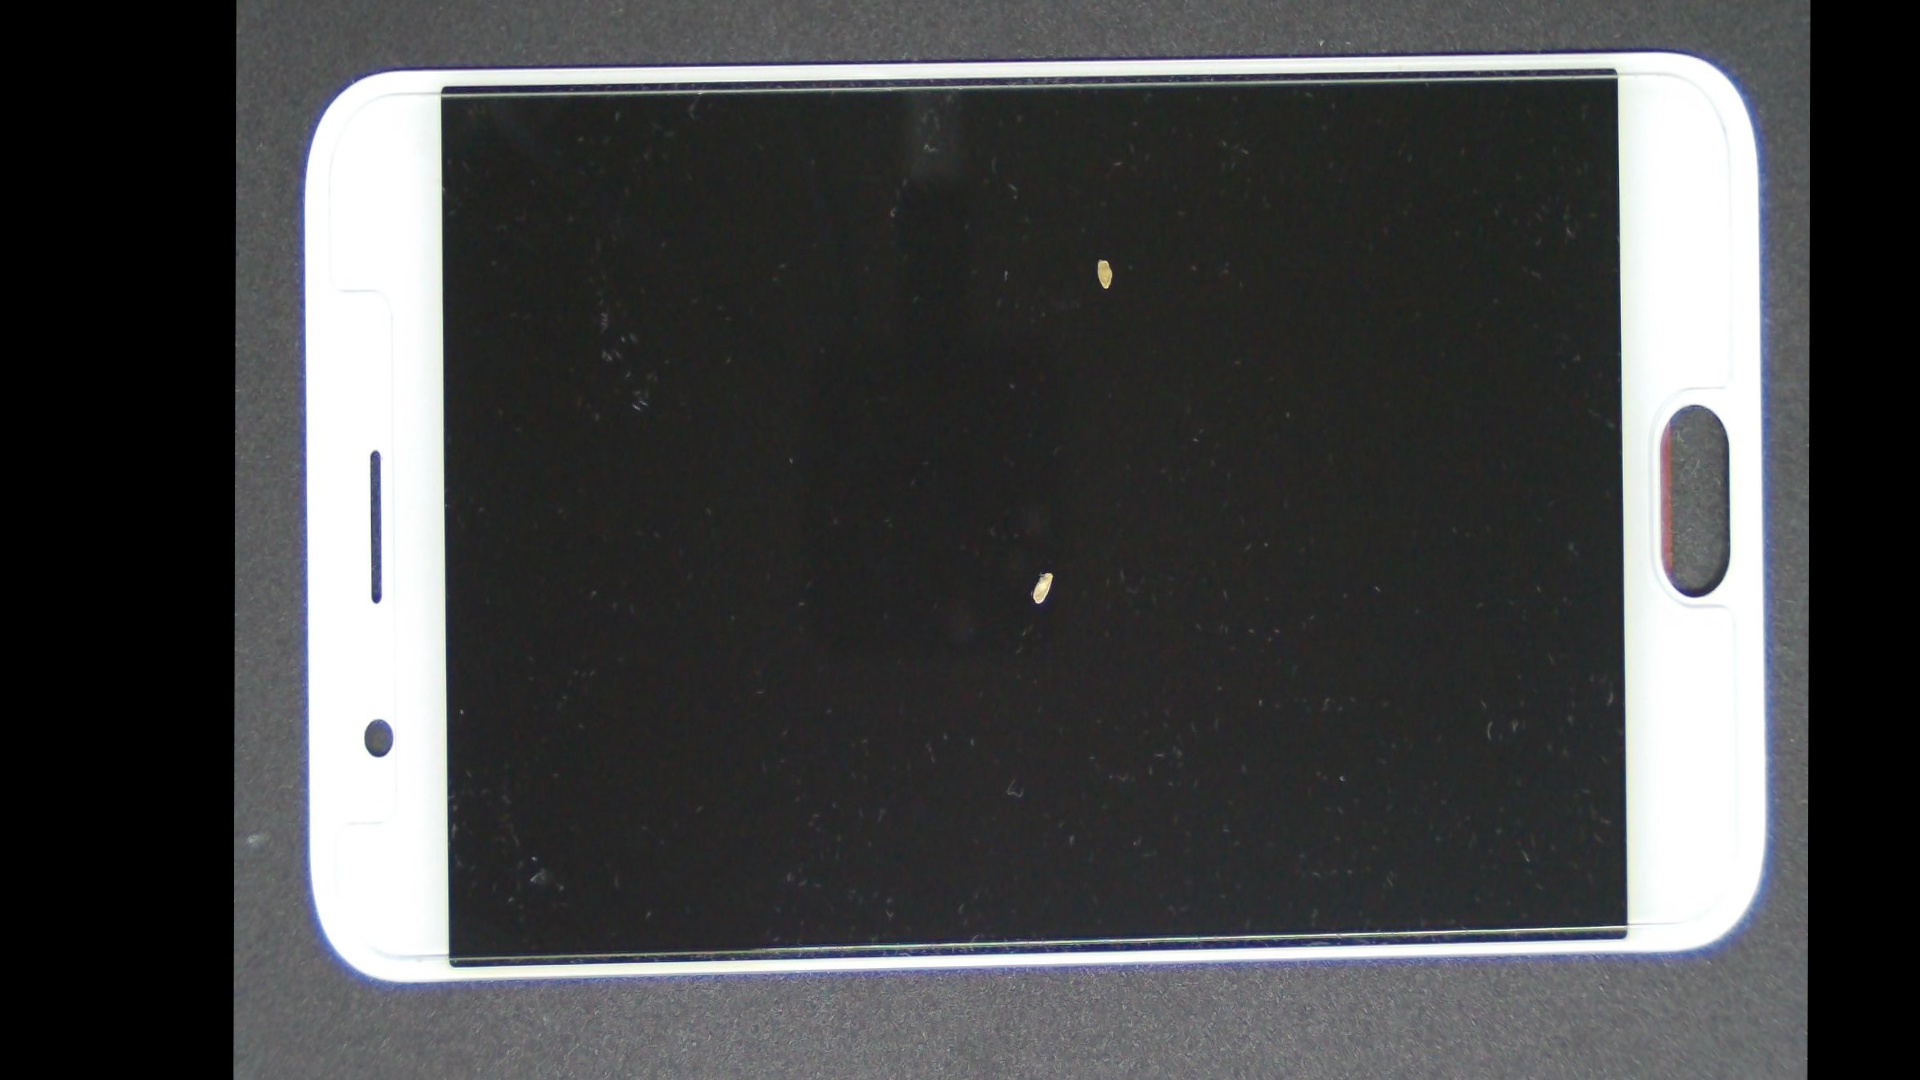oil: (638, 249, 1444, 890), (669, 94, 1534, 419)
